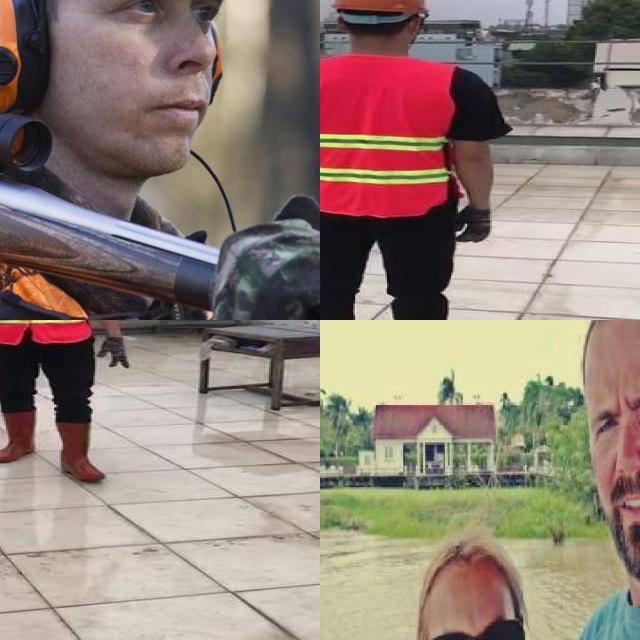Ear-protection: (0, 0, 56, 123)
No_Glasses: (75, 0, 230, 50)
boots: (52, 421, 106, 484), (0, 409, 39, 464)
face_nomask: (585, 386, 640, 530)
glasses: (426, 616, 526, 640)
hand_glove: (454, 206, 494, 246), (95, 336, 129, 368)
head_helmet: (320, 0, 443, 19)
head_nohelmet: (414, 540, 524, 610), (571, 320, 640, 355)
person: (0, 0, 320, 320), (320, 0, 506, 320), (536, 320, 640, 640), (0, 320, 143, 496), (401, 551, 556, 640)
vest: (320, 54, 461, 213)
